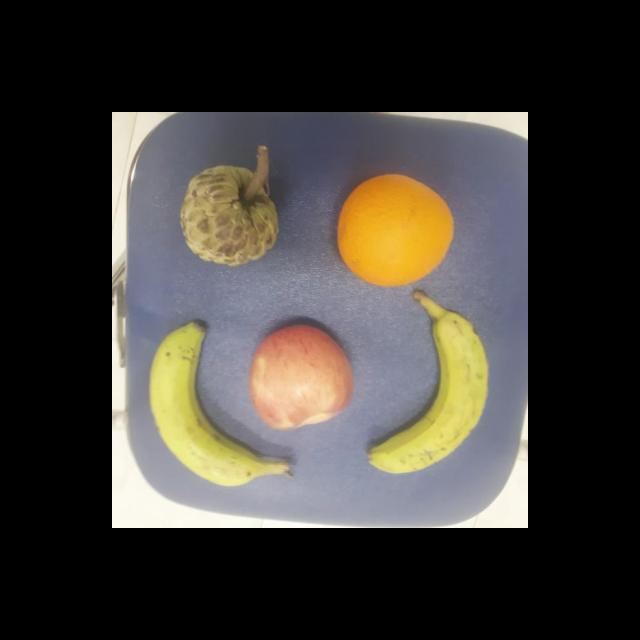Sakya fruit: (180, 166, 280, 266)
apple: (249, 324, 353, 430)
banana: (149, 320, 295, 488), (367, 288, 489, 476)
orange: (336, 174, 456, 288)
